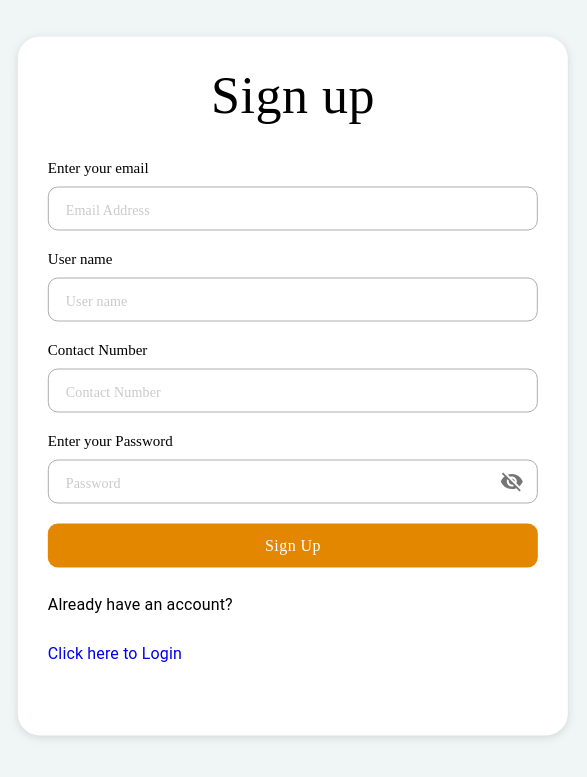
Test case: Register › should display error message for invalid password format
The image size is (587, 777).
In the password field with test id "password-input": coordinates (270, 482) [48,460,492,504], type "weakpassword"
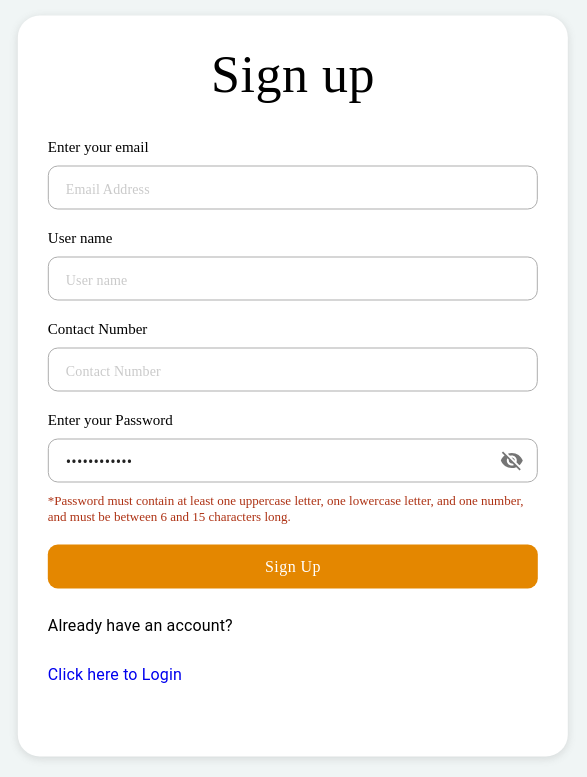
Check: the text with test id "password-error" shows "*Password must contain at least one uppercase letter, one lowercase letter, and one number, and must be between 6 and 15 characters long.", box [48,492,524,524]
Check: the text with test id "password-error" is shown, box [48,492,538,524]
